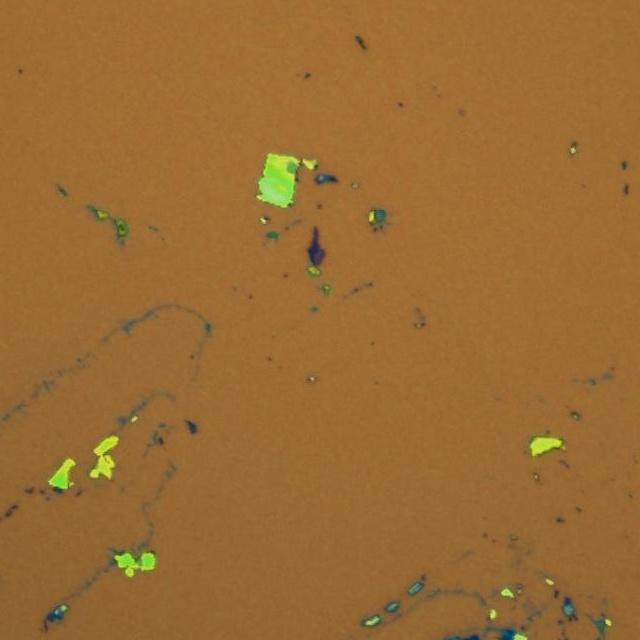monolayer-eWW4: (315, 248, 324, 264)
